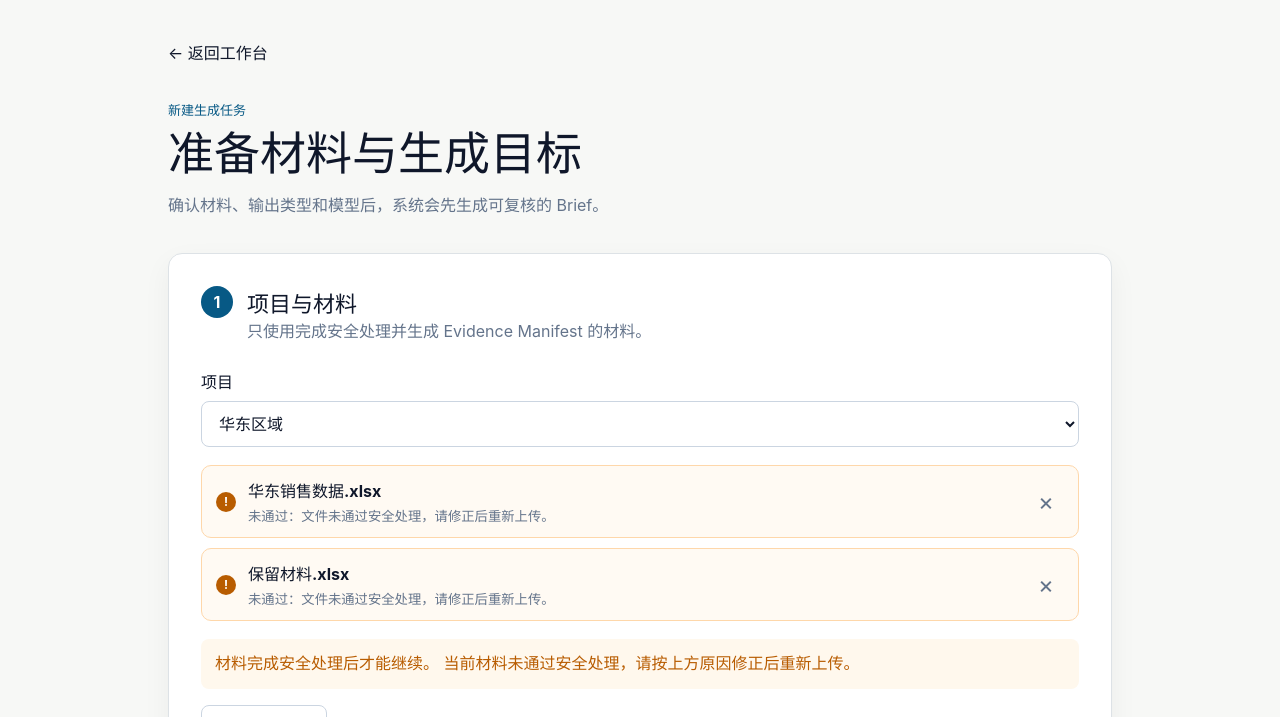
Scenario: New workflow › deletes only the confirmed rejected material and removes its row
Click the button named "删除未通过材料 华东销售数据.xlsx".
click(1046, 502)  # box x1=1028 y1=484 x2=1064 y2=520
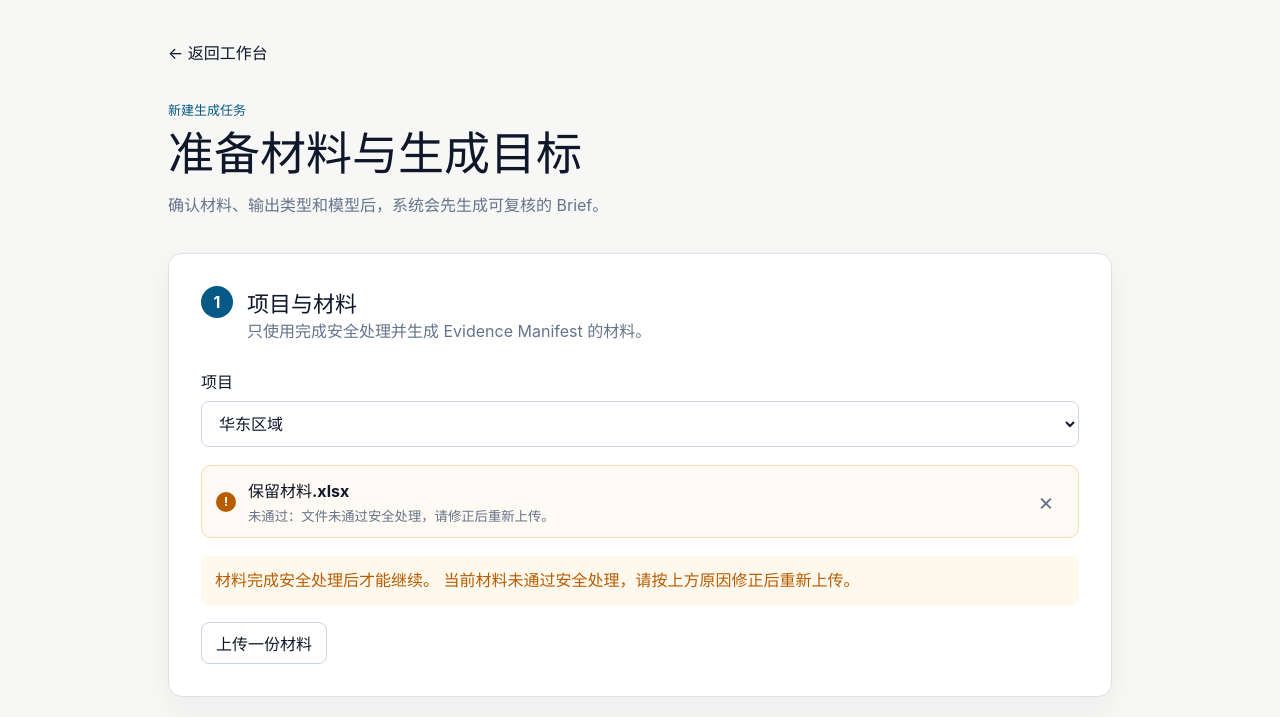
Expected: the text "保留材料.xlsx" is shown, x1=248 y1=481 x2=349 y2=501
Expected: the text "华东销售数据.xlsx" is gone
